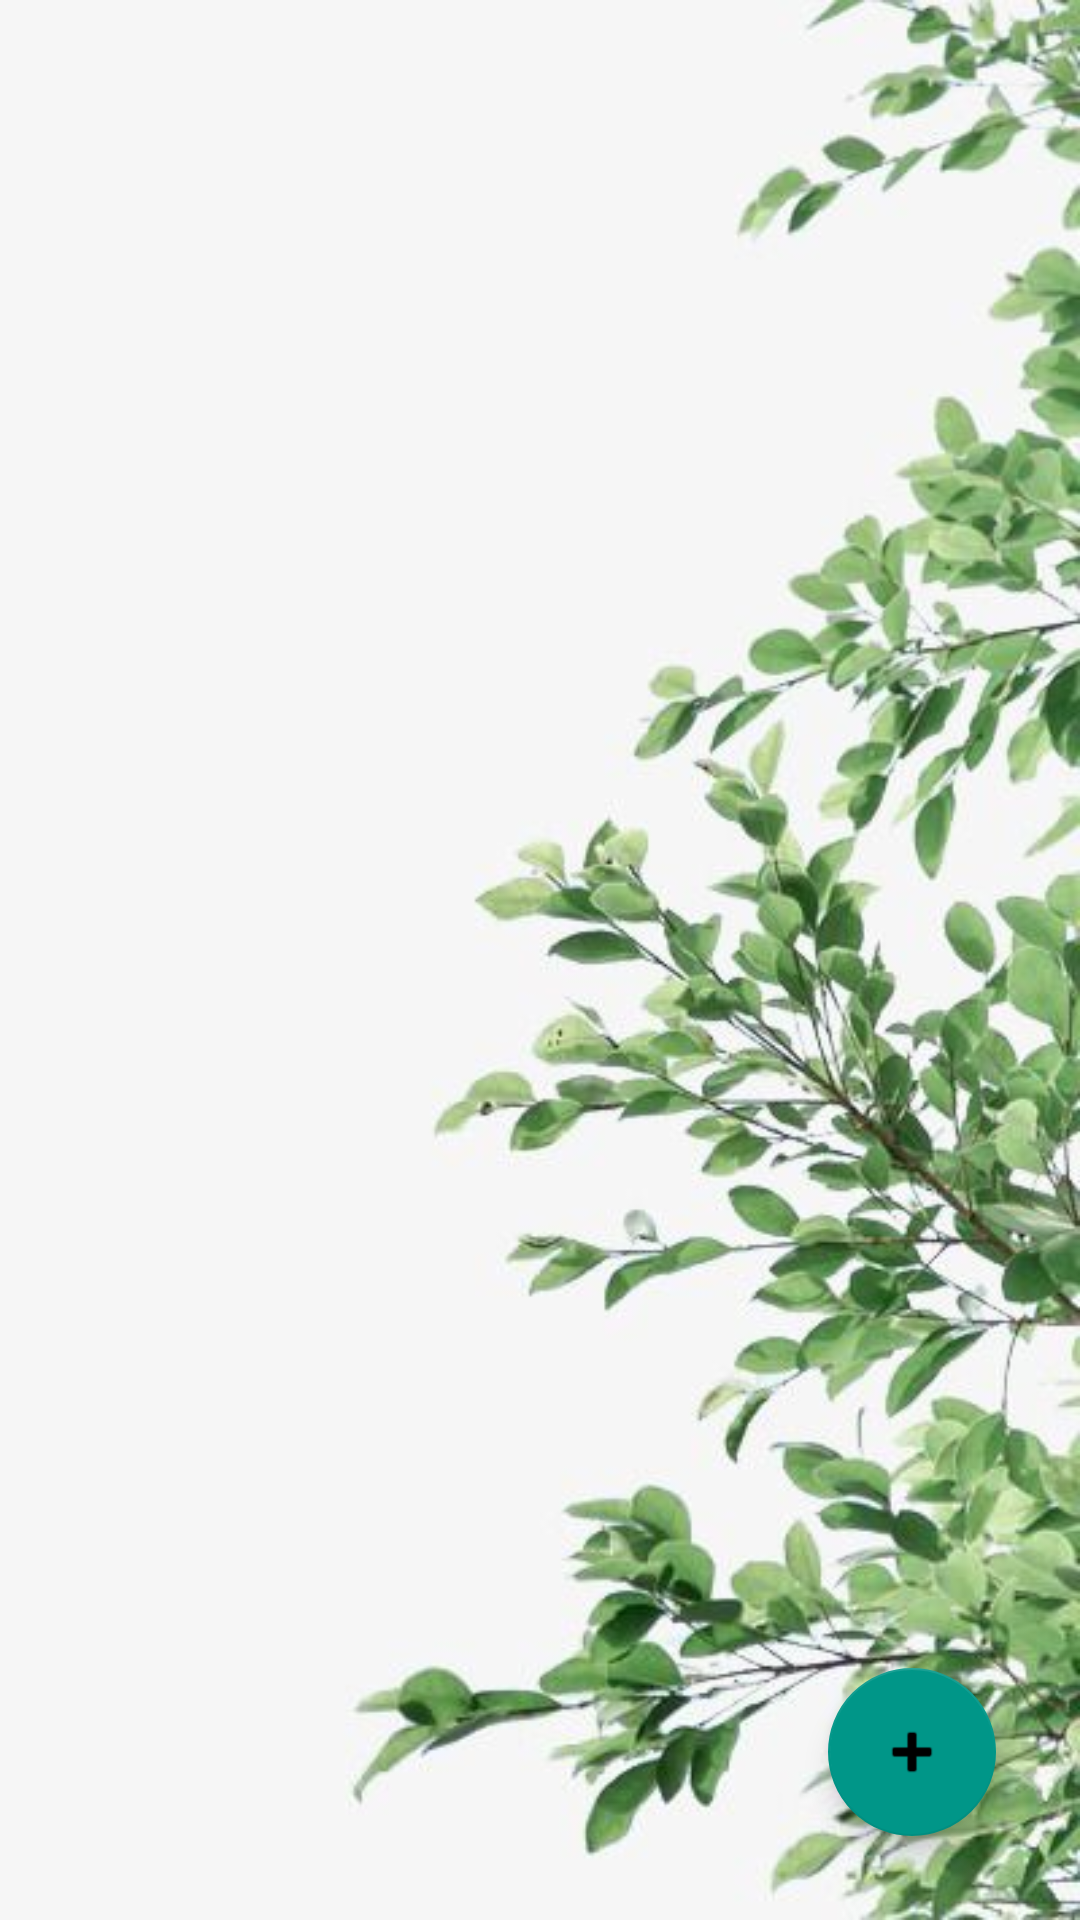

Where to tap for icons on this 1080 × 1920 app screen, as (x,y):
add: (912,1752)
